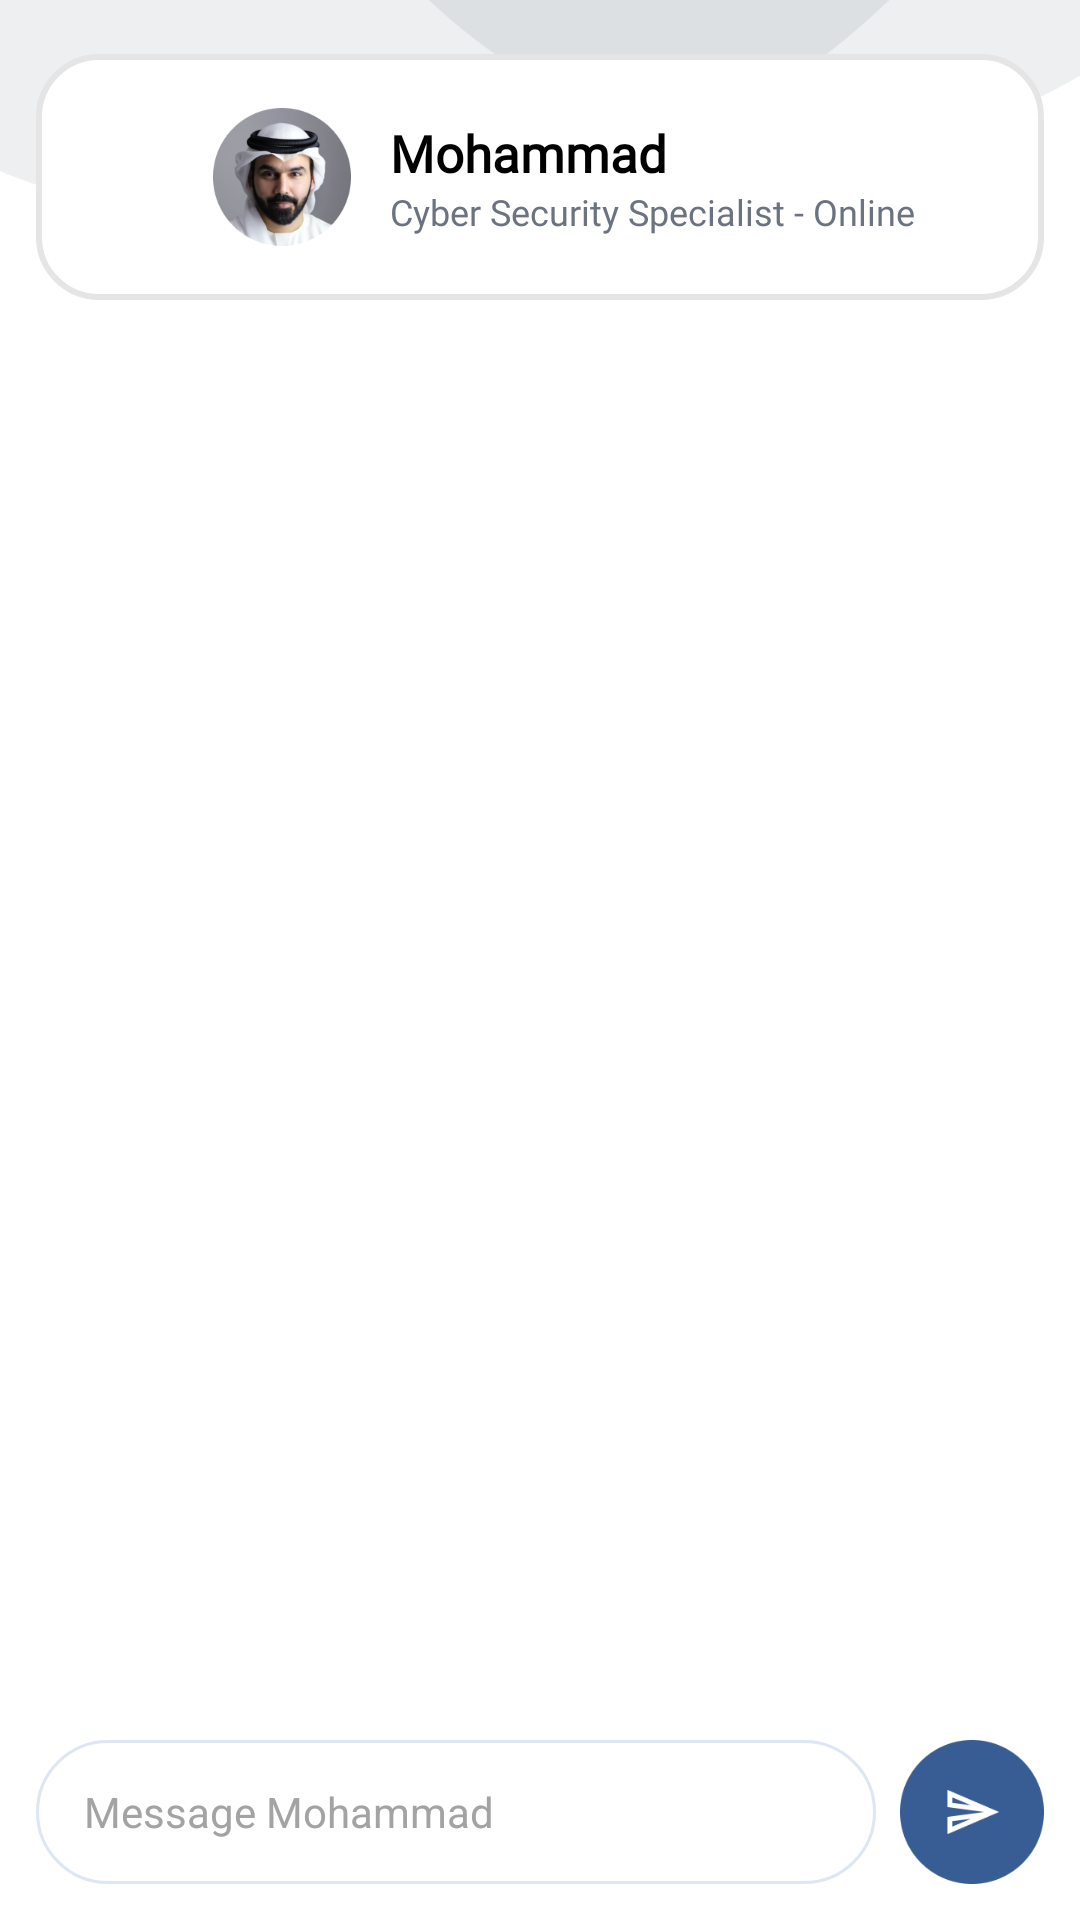

Where icons sit on this 1080px×1920px app screen, as (x1=x1, y1=y1, x2=x2, y2=y2):
Send Message: (x1=900, y1=1740, x2=1044, y2=1884)
Specialist profile: (x1=213, y1=108, x2=351, y2=246)
